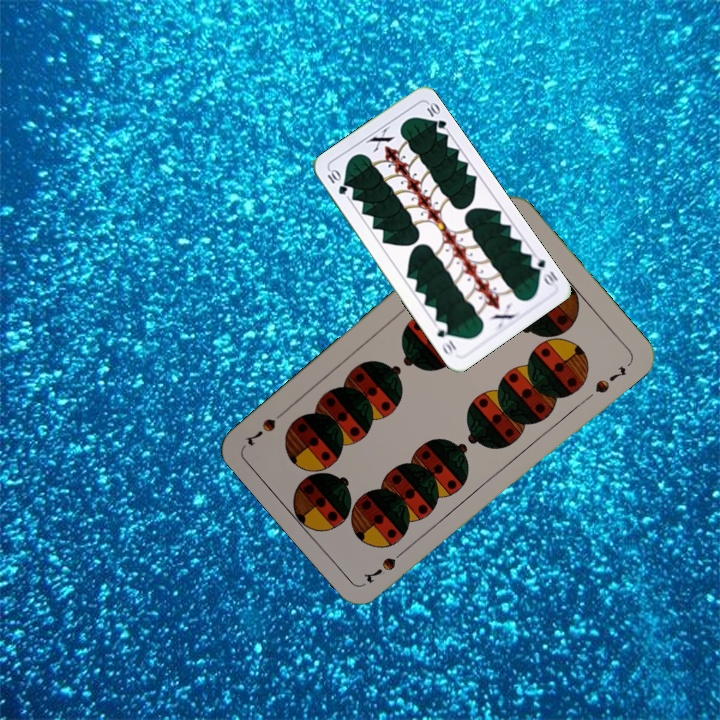G10: (526, 251, 561, 290), (323, 165, 350, 197)
S7: (360, 543, 410, 586)
